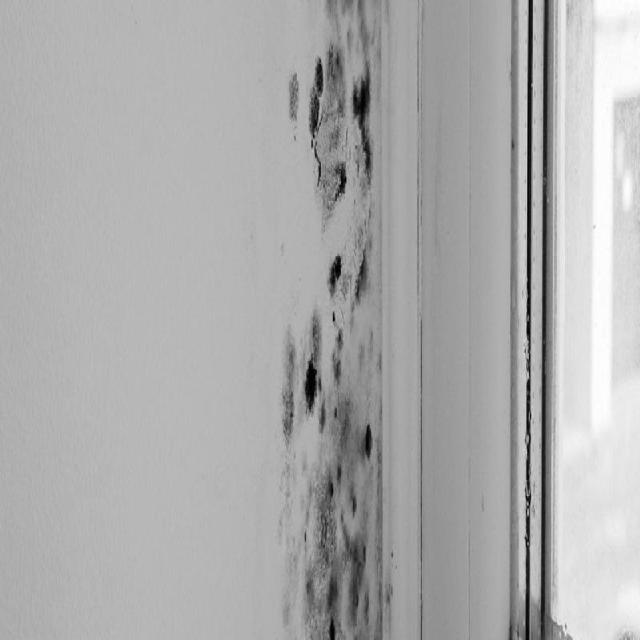stain marks: (276, 4, 379, 638)
